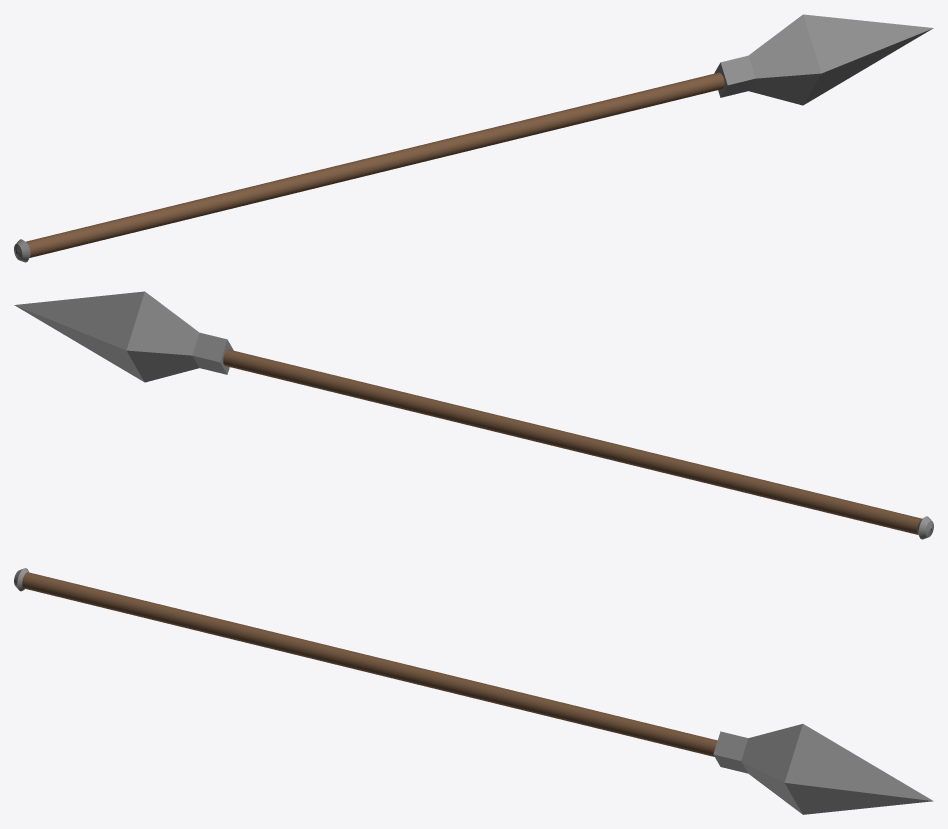
The model's file is Arrow.fbx.
3 views of the same model, one above another, from view 1: azimuth 30°, elevation 25°; view 2: azimuth 150°, elevation 25°; view 3: azimuth 330°, elevation 25° (orthographic).
Visible parts, largest first — view 1: arrow; view 2: arrow; view 3: arrow.
Part boxes in pixels (x1,y1,x2,y2): arrow: (14,14,933,262); arrow: (14,291,933,539); arrow: (14,568,933,814).
Bounding box in the file's own units: 158 × 14.97 × 11.01.
Materials: 1 (1 with a texture image).
